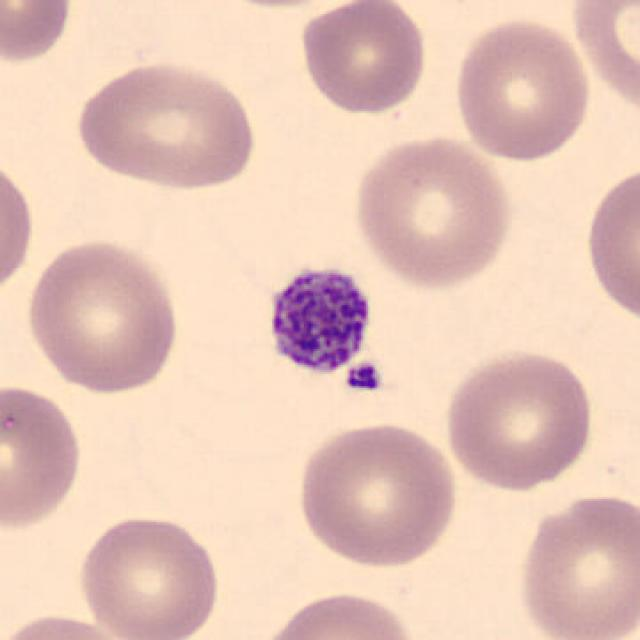Platelets: (258, 261, 377, 384), (341, 358, 386, 395)
RBC: (348, 132, 518, 291), (21, 232, 185, 396), (69, 56, 263, 194), (292, 418, 460, 571), (441, 346, 597, 494), (448, 12, 596, 164), (73, 509, 224, 640), (512, 488, 638, 640), (297, 0, 432, 118), (0, 381, 87, 534), (581, 158, 640, 332), (254, 585, 423, 640), (565, 0, 640, 122), (0, 151, 37, 305), (0, 0, 76, 67), (0, 610, 139, 640)
